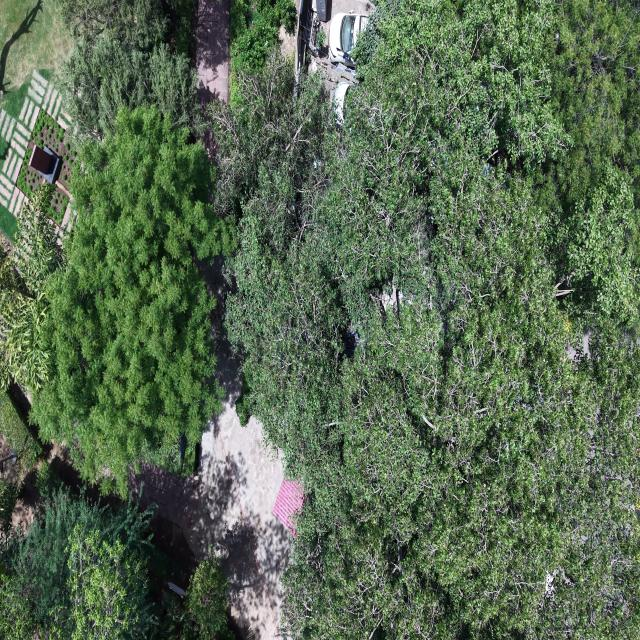DRY_AREA: (134, 257, 290, 639), (137, 261, 289, 639), (187, 258, 290, 639), (187, 260, 289, 639), (188, 342, 289, 639), (0, 0, 72, 237), (0, 0, 72, 106), (196, 0, 230, 108), (197, 0, 229, 103)
VEGETATION_TREE: (0, 0, 639, 639), (215, 0, 639, 638), (0, 0, 234, 639), (0, 0, 232, 494), (32, 108, 228, 495), (0, 478, 231, 639), (529, 2, 639, 327), (210, 49, 328, 255), (0, 488, 152, 638), (60, 0, 201, 138), (0, 194, 57, 476), (0, 185, 64, 391), (68, 525, 150, 639), (0, 0, 71, 117), (150, 554, 235, 639), (58, 0, 170, 47), (31, 110, 76, 224), (146, 46, 203, 133), (230, 0, 296, 72), (185, 550, 233, 639), (0, 389, 41, 471), (231, 15, 278, 72), (0, 571, 34, 639), (164, 0, 197, 58), (256, 0, 297, 34), (34, 458, 64, 497), (32, 110, 65, 144), (0, 80, 30, 117), (0, 477, 18, 535), (43, 186, 69, 224), (230, 0, 252, 42), (0, 208, 16, 242), (0, 137, 9, 160), (317, 29, 325, 50)
